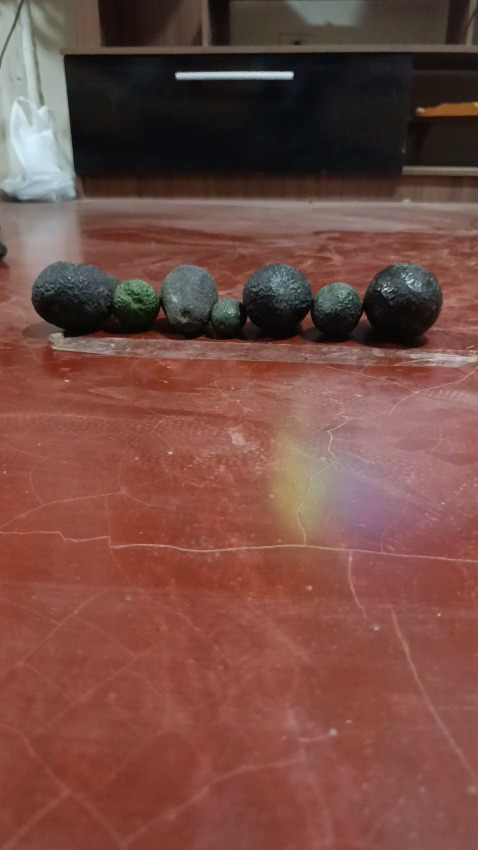Primera: (362, 260, 443, 341), (30, 261, 117, 336), (242, 263, 314, 337), (160, 264, 218, 336)
Segunda: (311, 282, 364, 340), (110, 278, 160, 333)
Tercera: (208, 298, 244, 339)
